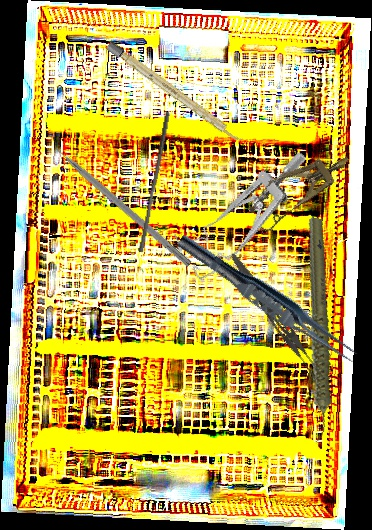Chopper: (45, 130, 199, 268)
Dressing Forceps: (224, 251, 328, 385)
Handpiece: (262, 216, 371, 444)
Pusher: (137, 111, 171, 253)
Scalpel Handle: (105, 40, 245, 146)
Speculum: (163, 149, 334, 283), (241, 139, 360, 237)
Tissue Forceps: (171, 229, 364, 369)
